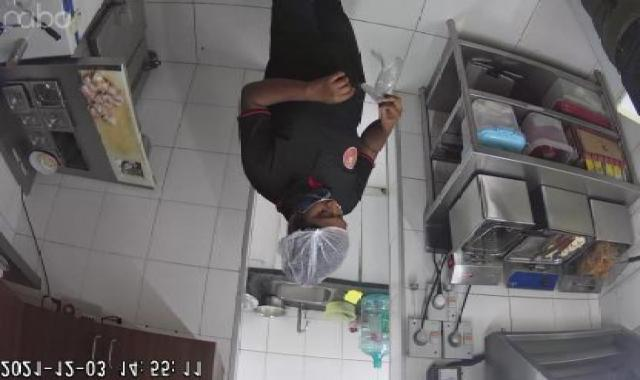hairnet: (275, 224, 361, 284)
